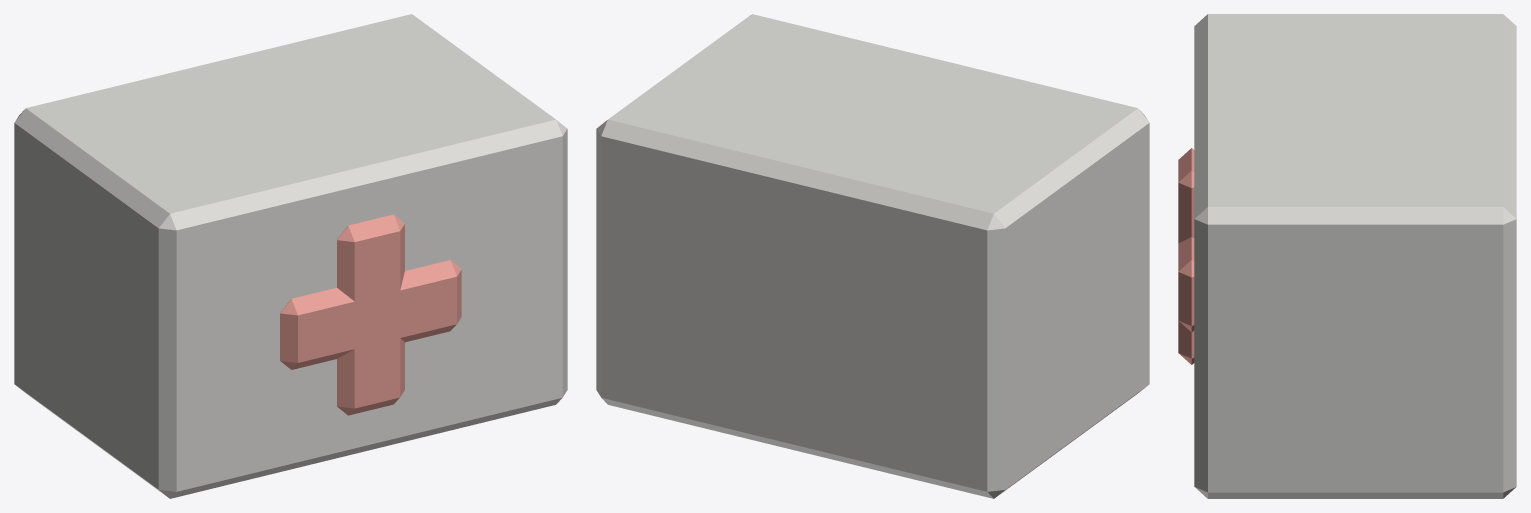
Rendered from SM_Medicine_Box.fbx.
The picture shows the model from 3 angles, left to right: view 1: azimuth 30°, elevation 25°; view 2: azimuth 150°, elevation 25°; view 3: azimuth 270°, elevation 25°; orthographic projection. The views are drawn at different scales.
Visible parts, largest first — view 1: Medicine_Box; view 2: Medicine_Box; view 3: Medicine_Box.
Boxes of the visible parts, bbox=[...] form: Medicine_Box: bbox=[14, 14, 567, 498]; Medicine_Box: bbox=[596, 14, 1149, 498]; Medicine_Box: bbox=[1178, 14, 1516, 498].
Size of the model in its own units: 18 by 12 by 12.6.
